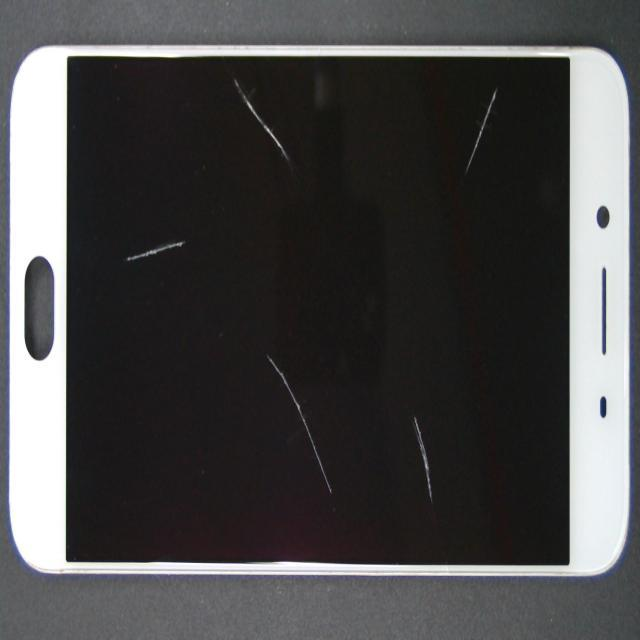scratch: (259, 344, 335, 503), (228, 80, 291, 176), (463, 85, 497, 177), (124, 229, 189, 271), (407, 410, 435, 503)
